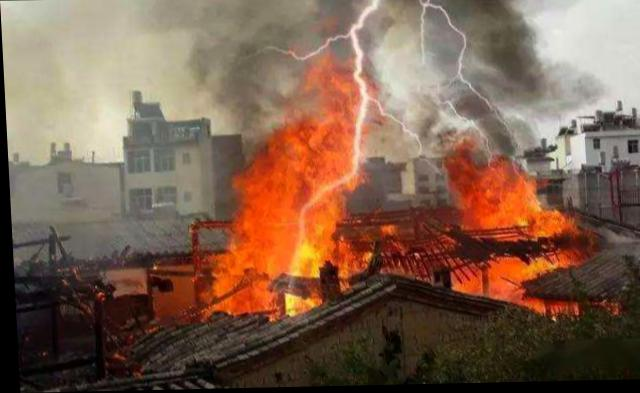fire: (186, 62, 610, 335)
